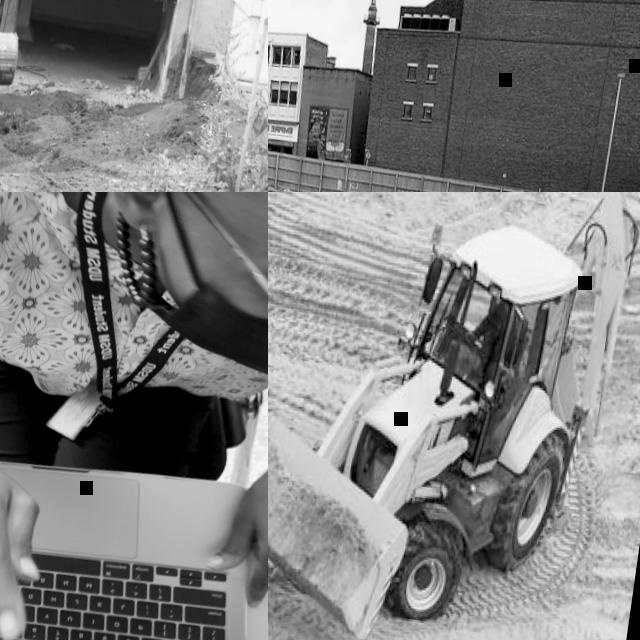Mask: (115, 201, 268, 399)
NO-Safety Vest: (0, 192, 268, 423)
Person: (0, 192, 268, 640), (465, 302, 515, 368)
machinery: (268, 192, 640, 640)
